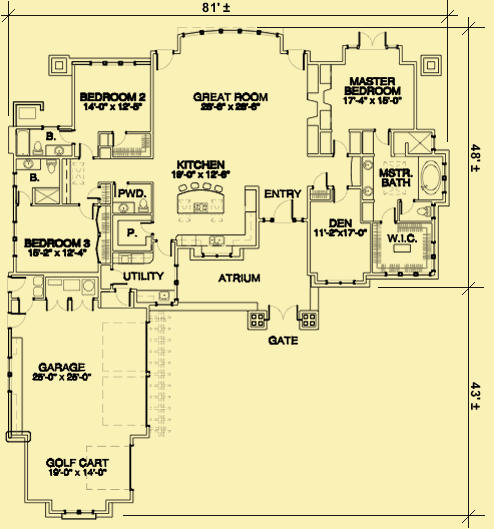door: (355, 27, 390, 53), (267, 302, 302, 325), (267, 197, 296, 222), (153, 49, 179, 71), (45, 296, 72, 315), (286, 45, 307, 69), (68, 298, 96, 315), (6, 274, 28, 295), (74, 201, 96, 222), (154, 238, 173, 262), (114, 287, 132, 311), (77, 143, 97, 164), (15, 189, 34, 211), (7, 312, 30, 330), (378, 205, 397, 225), (108, 268, 127, 287), (312, 170, 330, 190), (331, 138, 349, 158), (374, 125, 392, 145), (332, 184, 349, 205), (84, 186, 106, 202), (111, 130, 129, 149), (137, 220, 154, 236), (60, 129, 78, 144)
kitchen bar: (173, 179, 226, 223)
large sink: (42, 155, 59, 177), (415, 201, 432, 222), (27, 140, 45, 157), (133, 198, 149, 214)
small sink: (362, 155, 375, 202), (44, 145, 73, 157), (111, 200, 134, 214), (16, 157, 39, 170)
tub: (419, 155, 447, 199), (16, 130, 30, 155)
